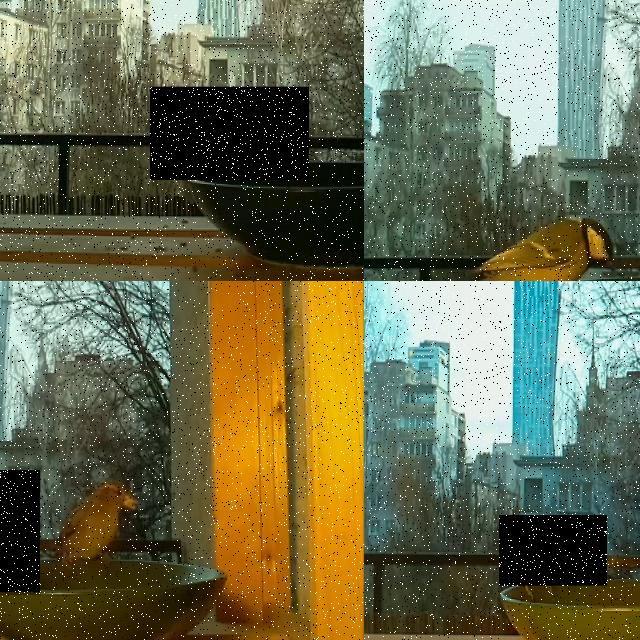Bogatka: (402, 213, 620, 281), (0, 470, 40, 594)
Modraszka: (499, 515, 607, 586)
Wrobel: (150, 87, 309, 180), (50, 477, 139, 572)
